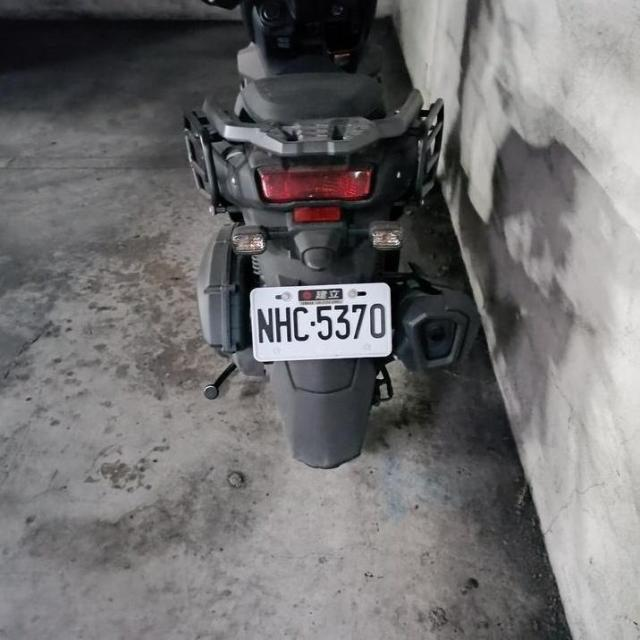W: (250, 279, 394, 363)
